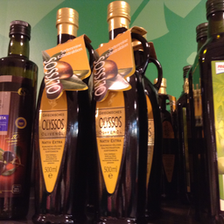oil: (89, 1, 147, 224), (32, 7, 88, 223), (1, 20, 40, 224)
